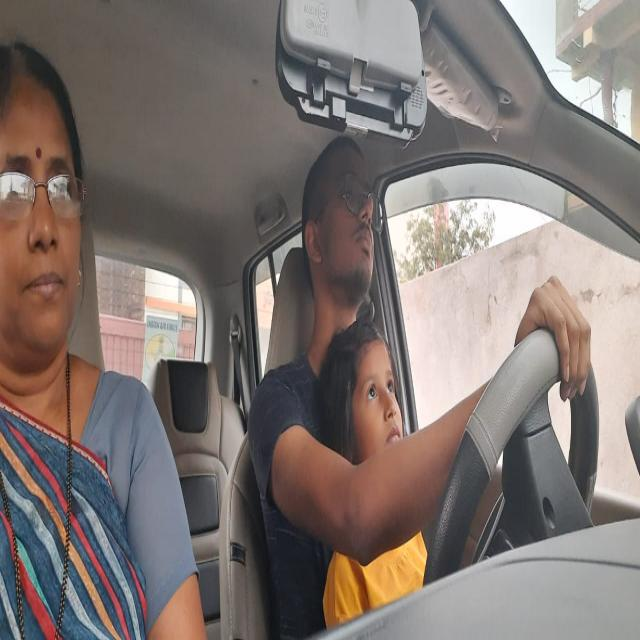child: (322, 323, 426, 490)
person: (0, 38, 91, 396), (299, 130, 393, 300)
